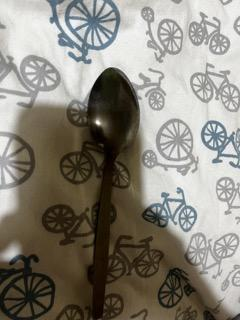spoon: (86, 66, 141, 320)
